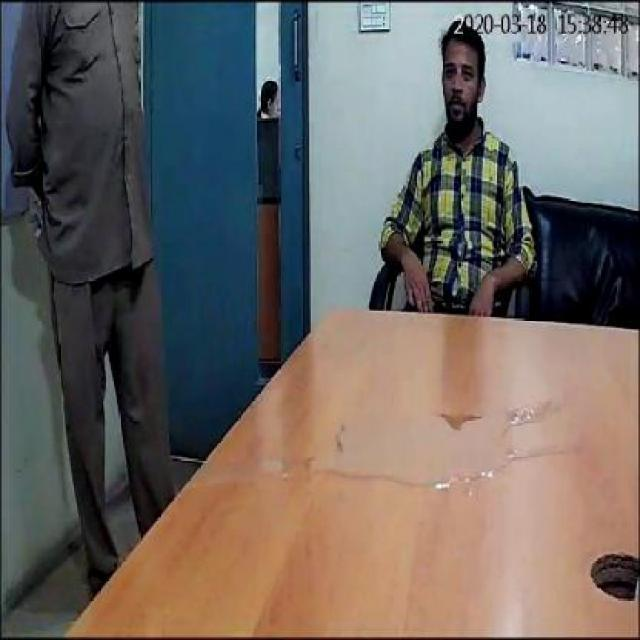spill: (246, 390, 560, 487)
